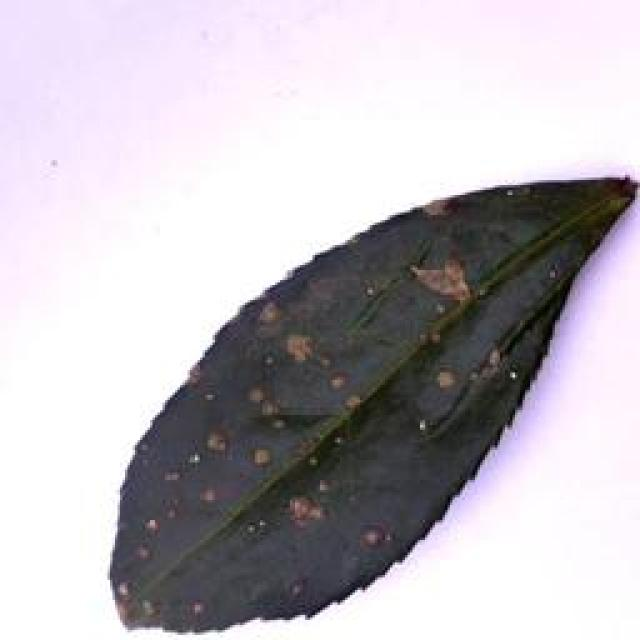Algal Leaf Spot: (110, 165, 635, 640)
